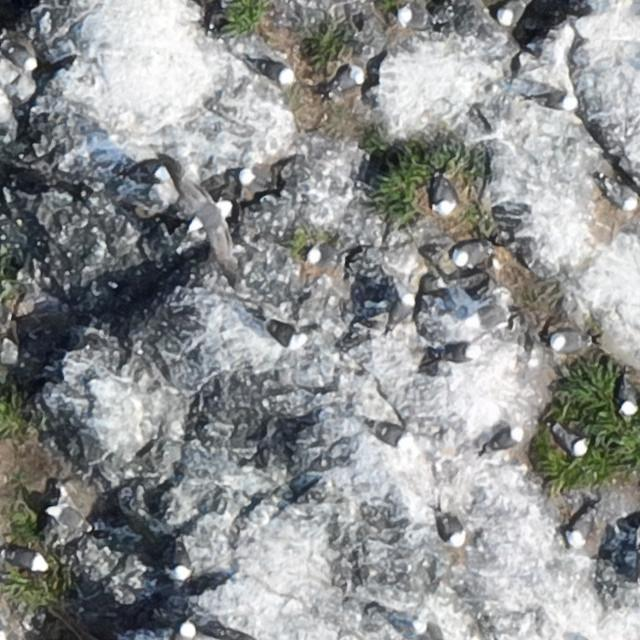F: (178, 166, 236, 273)
umineko: (46, 501, 90, 534), (465, 304, 517, 329), (606, 174, 636, 215), (264, 322, 300, 348), (555, 428, 587, 456), (138, 154, 166, 184), (7, 550, 46, 570), (256, 60, 291, 82), (371, 424, 405, 446), (391, 292, 413, 326), (332, 68, 363, 92), (6, 46, 37, 70), (456, 241, 488, 264), (553, 332, 589, 352), (435, 180, 456, 213), (491, 429, 522, 451), (570, 512, 592, 542), (498, 1, 526, 24), (305, 243, 337, 263), (533, 94, 573, 110), (442, 514, 463, 544), (436, 346, 474, 362), (619, 383, 637, 415), (171, 545, 188, 576), (399, 8, 425, 27), (233, 169, 255, 190)
